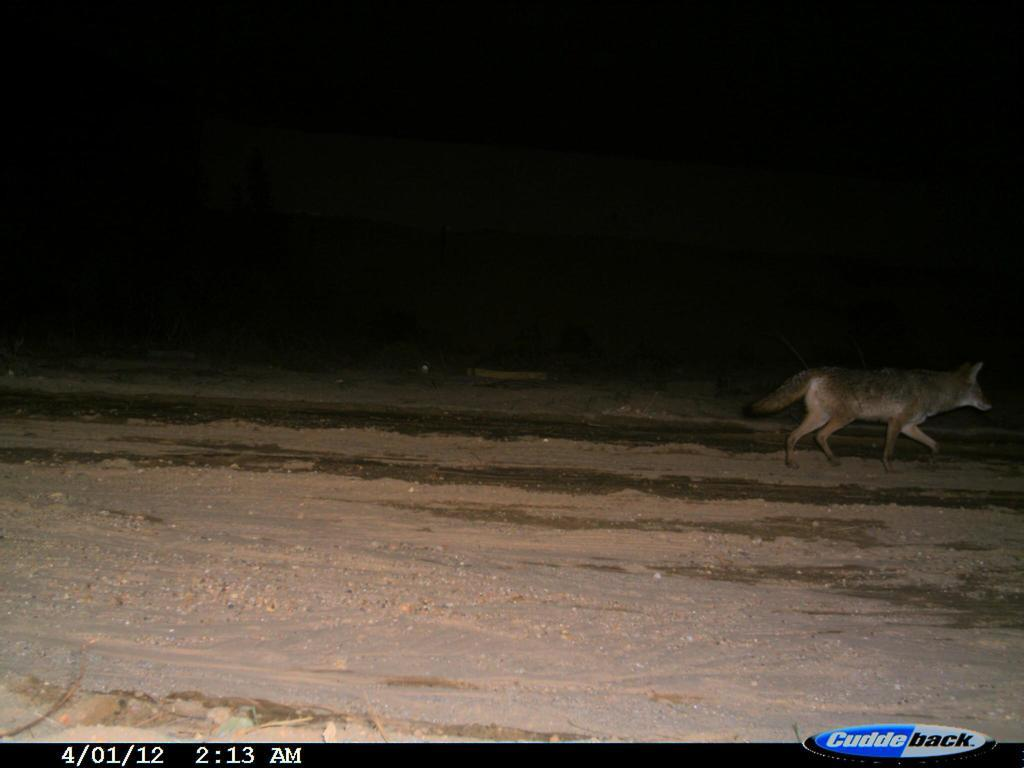coyote: (743, 354, 995, 479)
